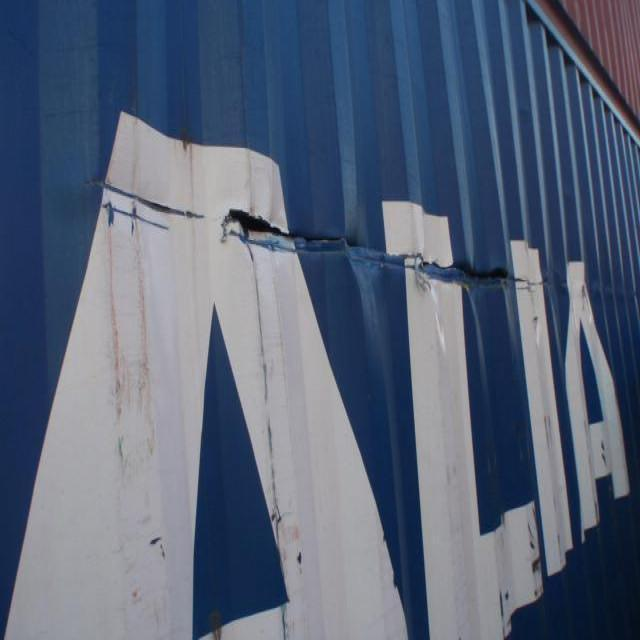hole: (314, 223, 542, 292), (222, 206, 303, 259)
